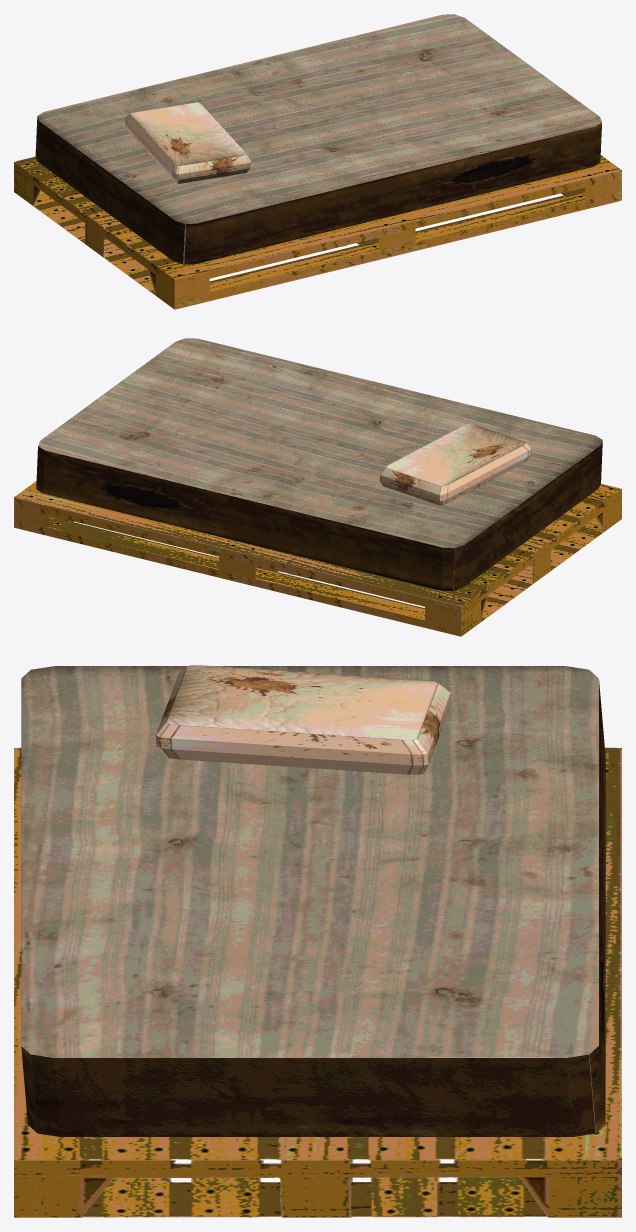
File: cama.fbx
3 views of the same model, one above another, from view 1: azimuth 30°, elevation 25°; view 2: azimuth 150°, elevation 25°; view 3: azimuth 270°, elevation 25° (orthographic). The views are drawn at different scales.
Parts seen in each view (by area): view 1: Palete; view 2: Palete; view 3: Palete.
Boxes of the visible parts, x1,y1,x2,y2 form: Palete: (14, 14, 621, 309); Palete: (14, 338, 621, 636); Palete: (14, 665, 621, 1217).
Bounding box in the file's own units: 262 × 54.85 × 163.
3 materials, 3 textured.
